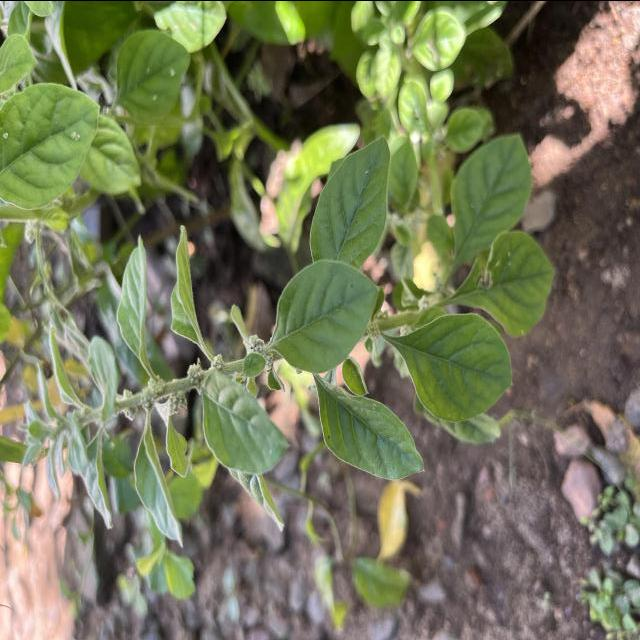Aerva lanata: (264, 254, 383, 376), (391, 310, 516, 424), (312, 376, 428, 484), (307, 130, 393, 270)
